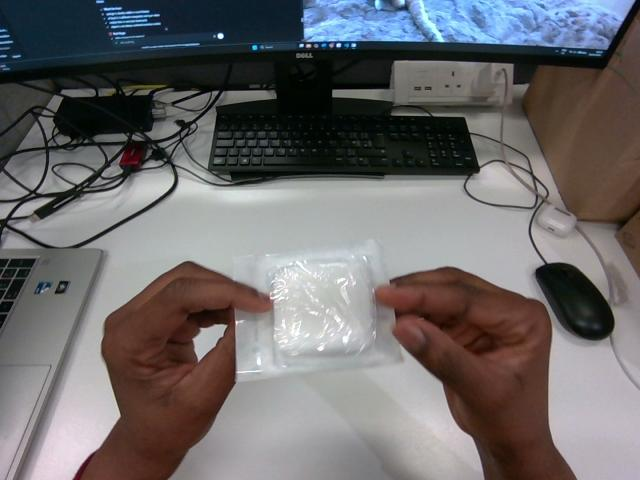gauze: (234, 240, 401, 380)
